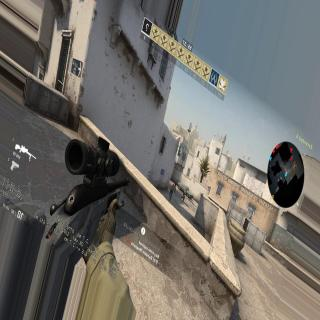T-Body: (169, 182, 174, 199), (181, 188, 187, 201), (174, 181, 178, 193)
T-Head: (173, 184, 174, 187), (186, 189, 187, 191), (177, 181, 178, 183)
